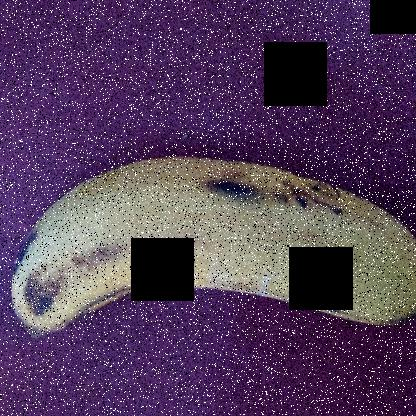ripe: (3, 150, 415, 356)
